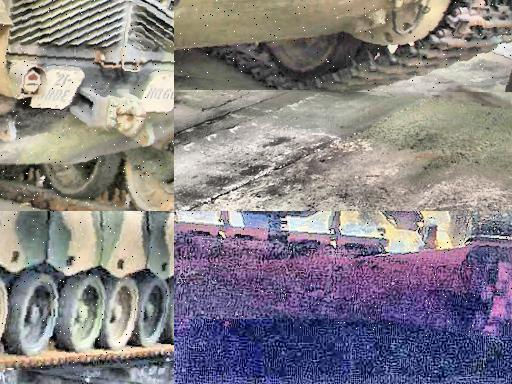tanks: (175, 212, 512, 337), (1, 1, 175, 212), (175, 1, 512, 93), (1, 212, 175, 369)
